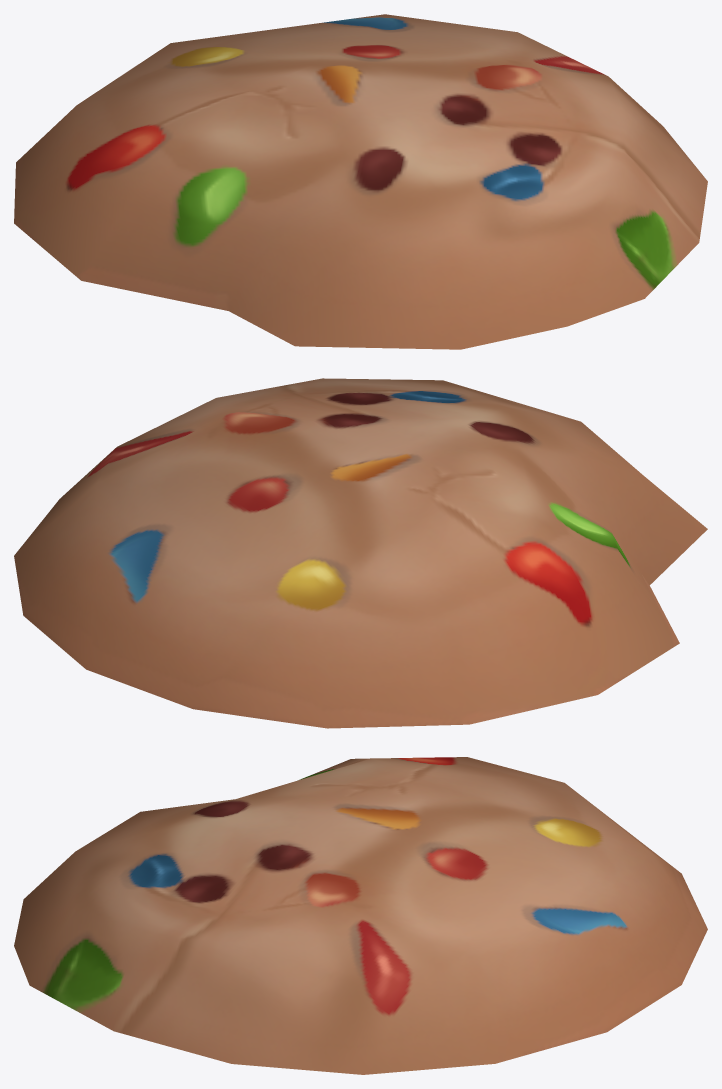
Rendered from cookiecolorful.fbx.
The picture shows the model from 3 angles, top to bottom: view 1: azimuth 30°, elevation 25°; view 2: azimuth 150°, elevation 25°; view 3: azimuth 270°, elevation 25°; orthographic projection. The views are drawn at different scales.
Visible parts, largest first — view 1: cookiecolorful; view 2: cookiecolorful; view 3: cookiecolorful.
Boxes of the visible parts, bbox=[...] form: cookiecolorful: bbox=[14, 14, 707, 349]; cookiecolorful: bbox=[14, 378, 707, 728]; cookiecolorful: bbox=[14, 757, 707, 1074].
Size of the model in its own units: 9.85 by 2 by 10.25.
